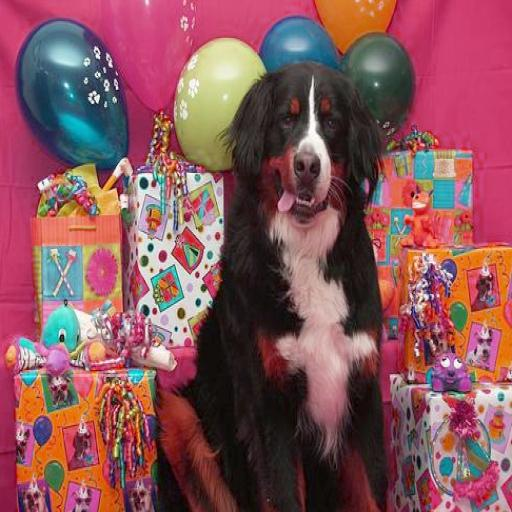dog_face: (226, 63, 393, 223)
